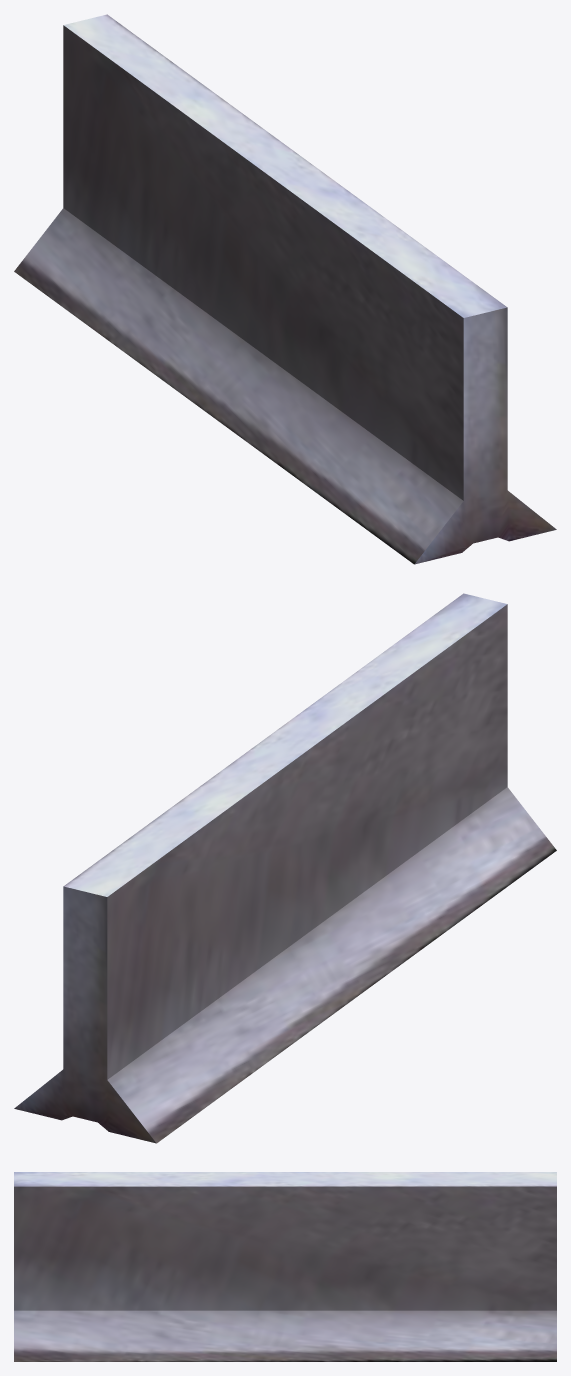
File: obstacle-full.glb
The picture shows the model from 3 angles, top to bottom: view 1: azimuth 30°, elevation 25°; view 2: azimuth 150°, elevation 25°; view 3: azimuth 270°, elevation 25°; orthographic projection. The views are drawn at different scales.
Visible parts, largest first — view 1: Cube; view 2: Cube; view 3: Cube.
Part boxes in pixels (box(x1,y1,x2,y2)): Cube: box(14, 14, 556, 564); Cube: box(14, 593, 556, 1143); Cube: box(14, 1172, 556, 1361).
Size of the model in its own units: 1.31 by 2.06 by 6.37.
1 material, 1 textured.
